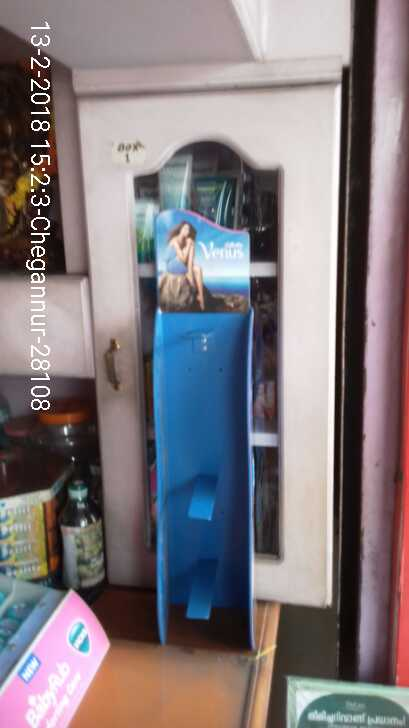reject: (64, 182, 214, 314)
